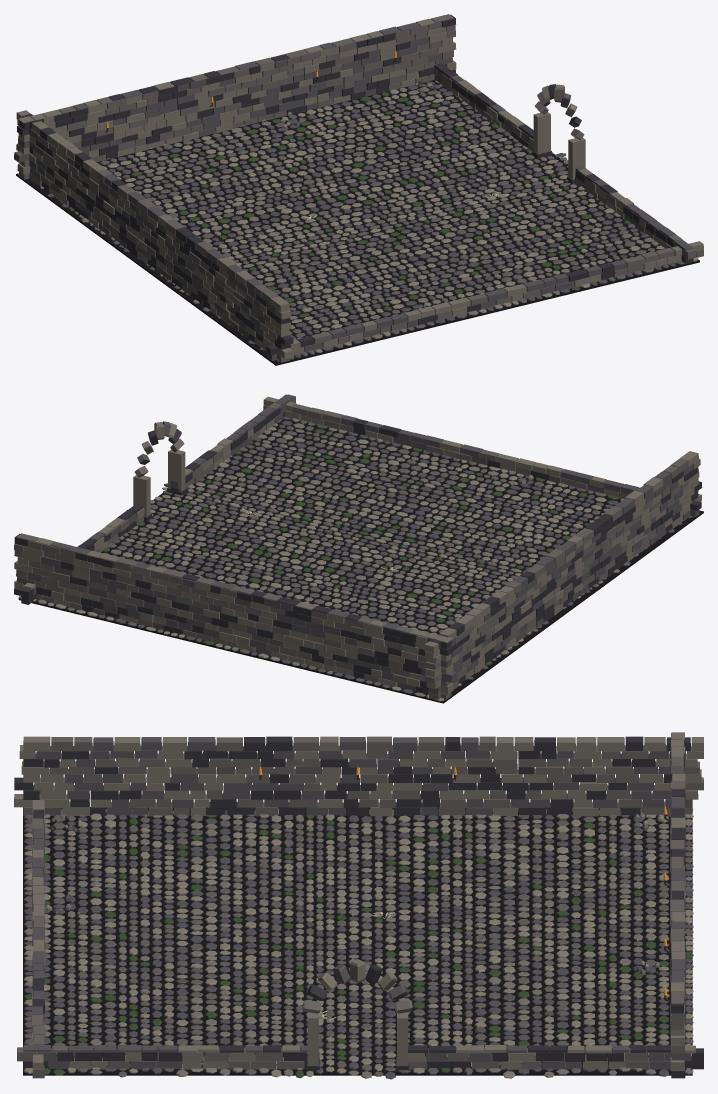
File: stage.glb
3 renders of one model, top to bottom at view 1: azimuth 30°, elevation 25°; view 2: azimuth 150°, elevation 25°; view 3: azimuth 270°, elevation 25°, orthographic. The views are drawn at different scales.
Visible parts, largest first — view 1: stage_floor, stage_walls, stage_props; view 2: stage_floor, stage_walls, stage_props; view 3: stage_floor, stage_walls, stage_props.
Part boxes in pixels (box(x1,y1,x2,y2)): stage_floor: box(16, 80, 699, 365); stage_walls: box(14, 14, 703, 362); stage_props: box(105, 51, 585, 339); stage_floor: box(18, 416, 703, 703); stage_walls: box(14, 394, 702, 699); stage_props: box(133, 421, 541, 574); stage_floor: box(23, 807, 693, 1079); stage_walls: box(14, 732, 703, 1078); stage_props: box(44, 766, 670, 1071).
Size of the model in its own units: 33.48 by 6.09 by 35.44.
